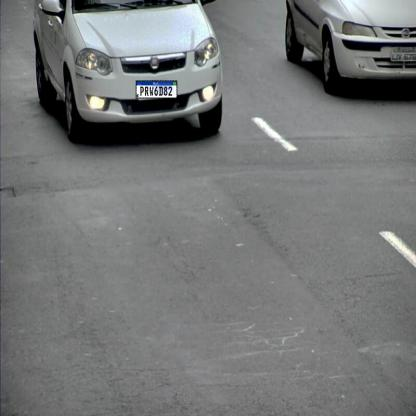PlacaM: (136, 80, 177, 99)
